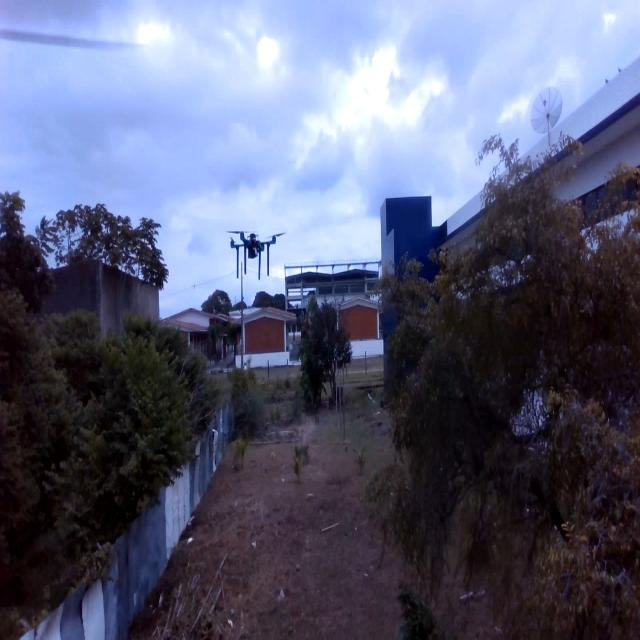-uav-: (222, 215, 288, 278)
